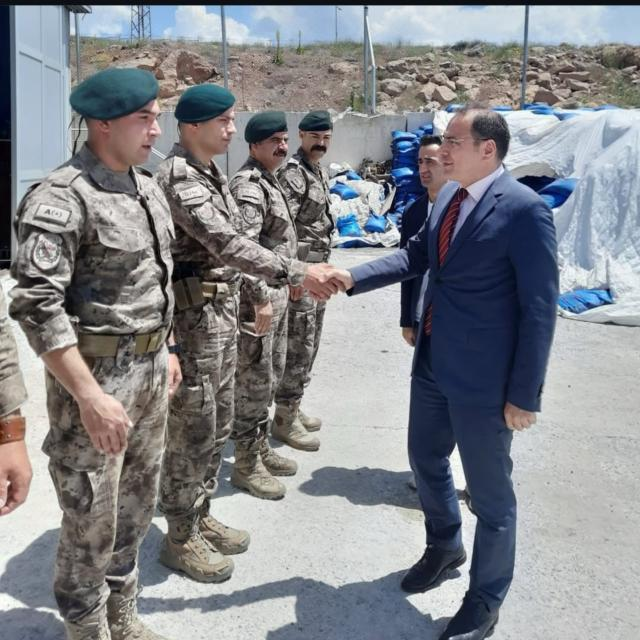poh_personel: (18, 67, 182, 640), (157, 85, 249, 582), (233, 110, 299, 489), (296, 106, 333, 444)
